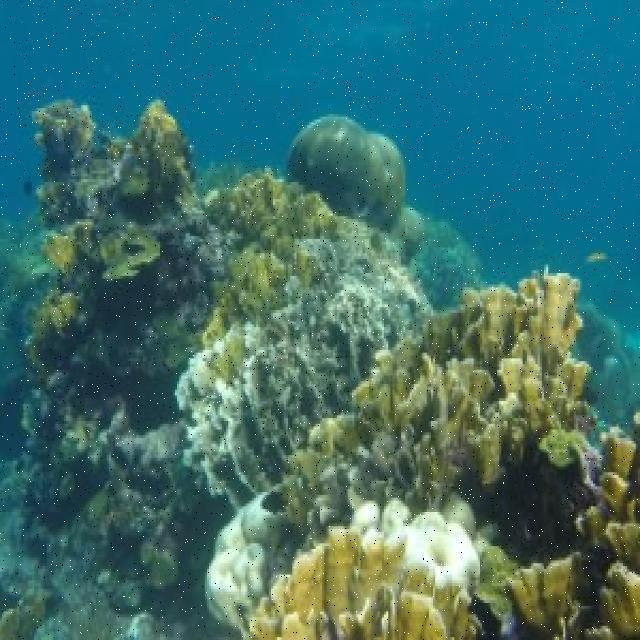Bleached: (181, 231, 430, 488), (354, 494, 476, 592), (37, 101, 124, 215), (208, 487, 278, 619), (95, 406, 192, 475)
Healthy: (291, 268, 595, 494), (494, 437, 640, 640), (211, 174, 335, 375), (243, 542, 483, 640), (130, 100, 194, 195), (24, 291, 82, 373), (97, 223, 163, 285), (46, 220, 82, 266)
